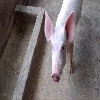heo: (42, 8, 77, 85)
